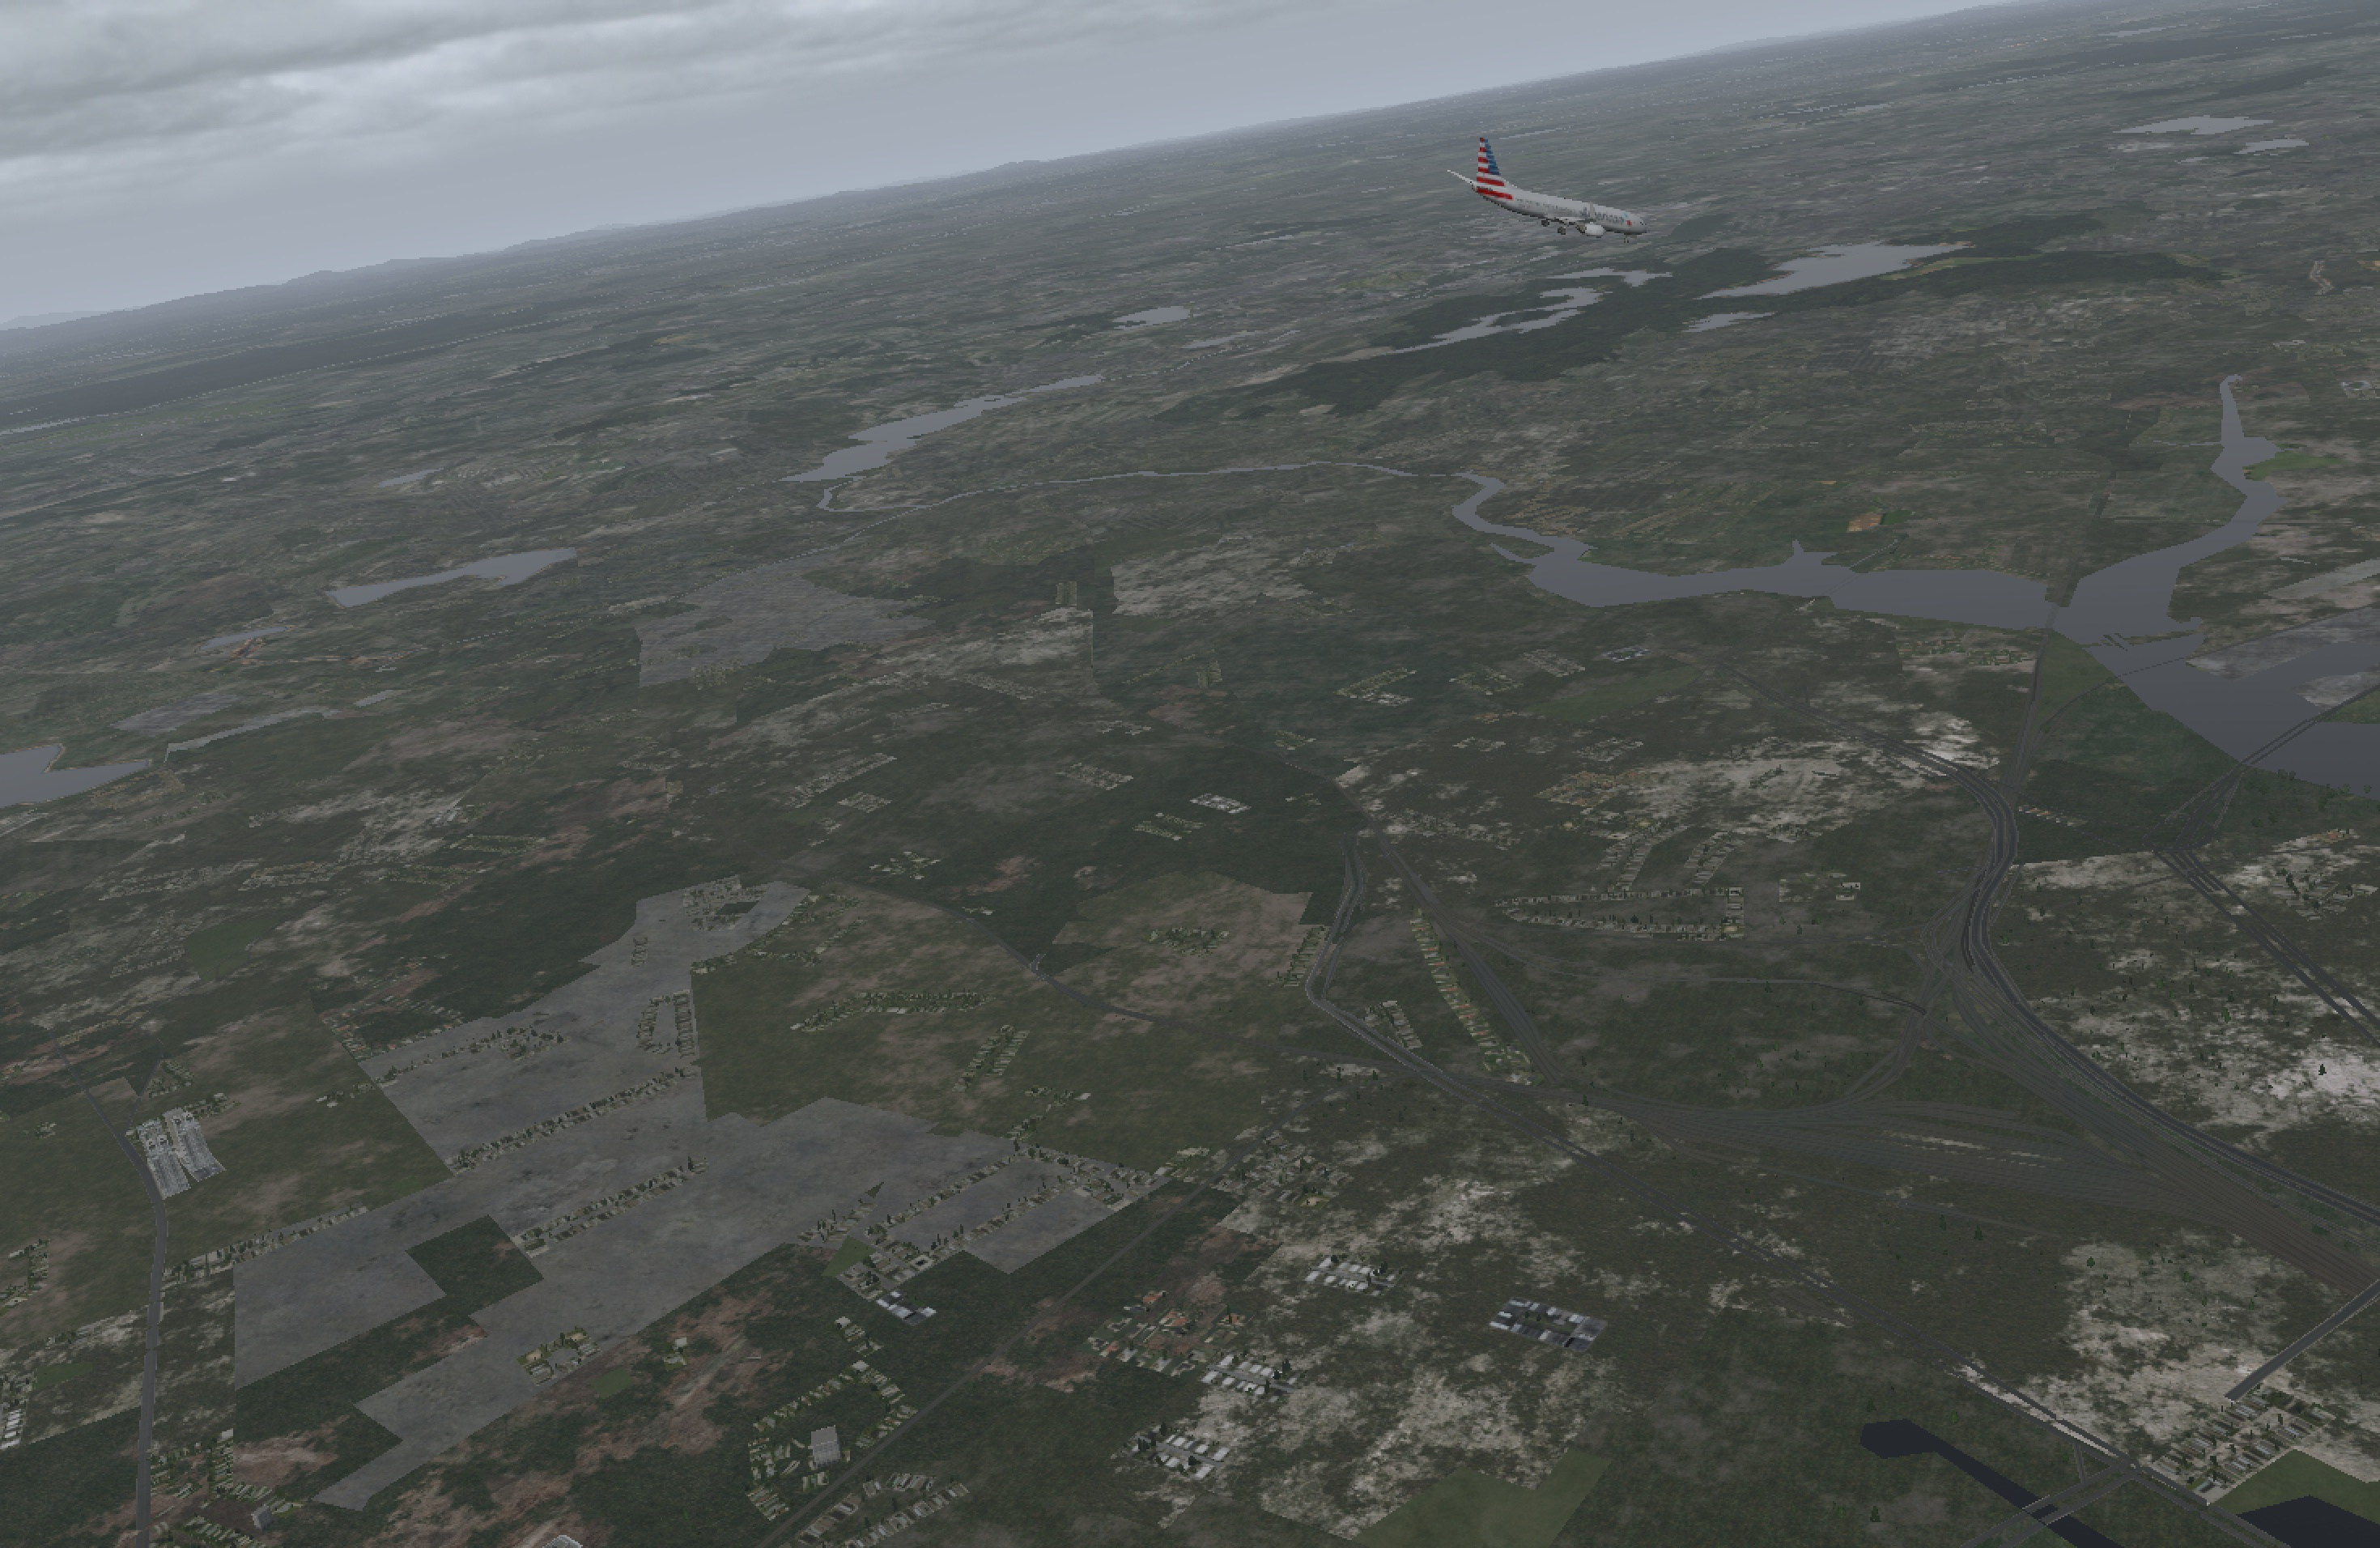aircraft: (1457, 174, 1672, 255)
